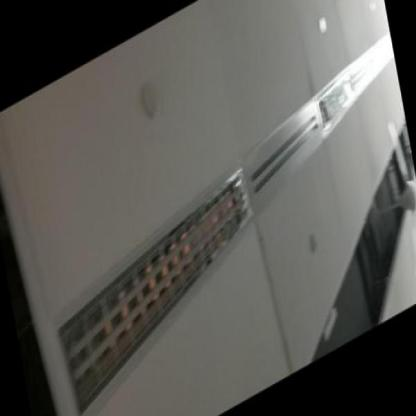light_off: (33, 154, 272, 415), (309, 59, 363, 149)
